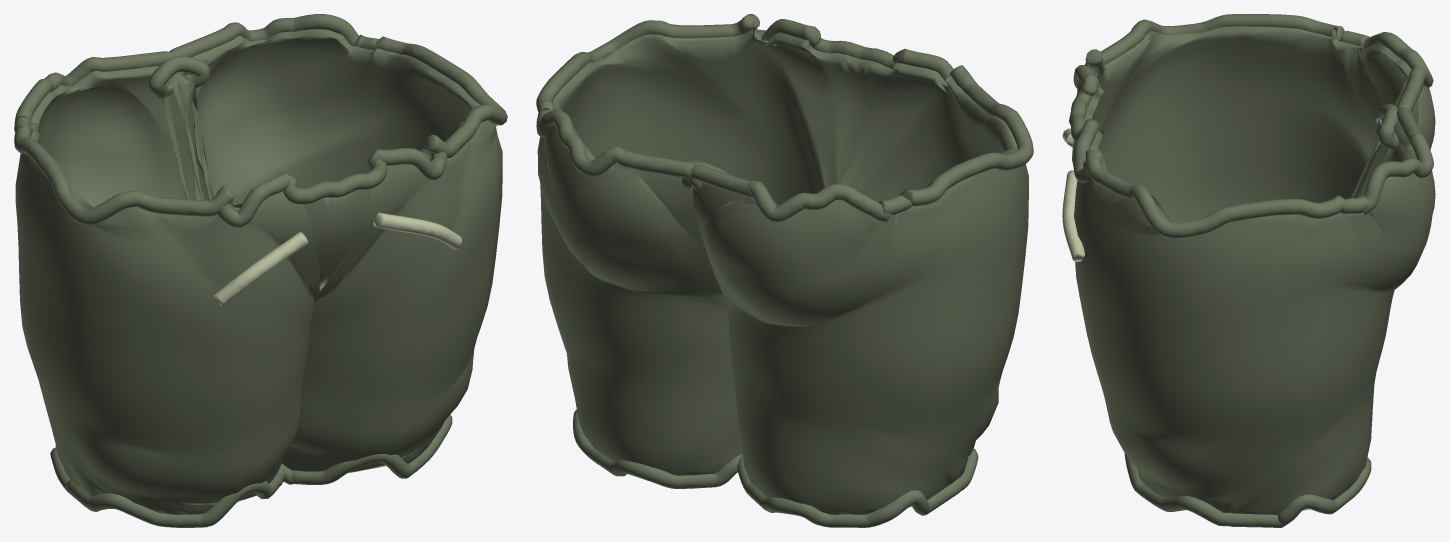
Rendered from 2HT-feminino.glb.
The picture shows the model from 3 angles, left to right: view 1: azimuth 30°, elevation 25°; view 2: azimuth 150°, elevation 25°; view 3: azimuth 270°, elevation 25°; orthographic projection. The views are drawn at different scales.
Visible parts, largest first — view 1: fitted-shell, bound-edge (×3), pocket--1, pocket-1; view 2: fitted-shell, bound-edge (×3); view 3: fitted-shell, bound-edge (×2), pocket-1.
Boxes of the visible parts, left/top/right/bottom form: fitted-shell: left=15, top=29, right=502, bottom=514; bound-edge (×3): left=14, top=14, right=507, bottom=527; pocket--1: left=213, top=231, right=308, bottom=306; pocket-1: left=373, top=212, right=463, bottom=249; fitted-shell: left=537, top=21, right=1028, bottom=514; bound-edge (×3): left=536, top=14, right=1033, bottom=527; fitted-shell: left=1072, top=26, right=1435, bottom=514; bound-edge (×2): left=1069, top=14, right=1433, bottom=527; pocket-1: left=1062, top=170, right=1084, bottom=261.
Size of the model in its own units: 0.0398 by 0.0322 by 0.0308.
